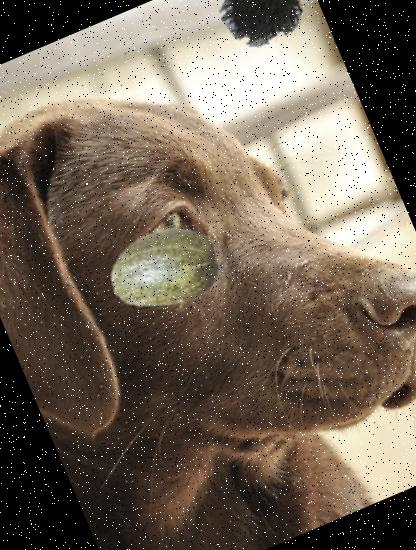Melon: (94, 200, 240, 346)
Rambutan: (212, 0, 317, 63)
